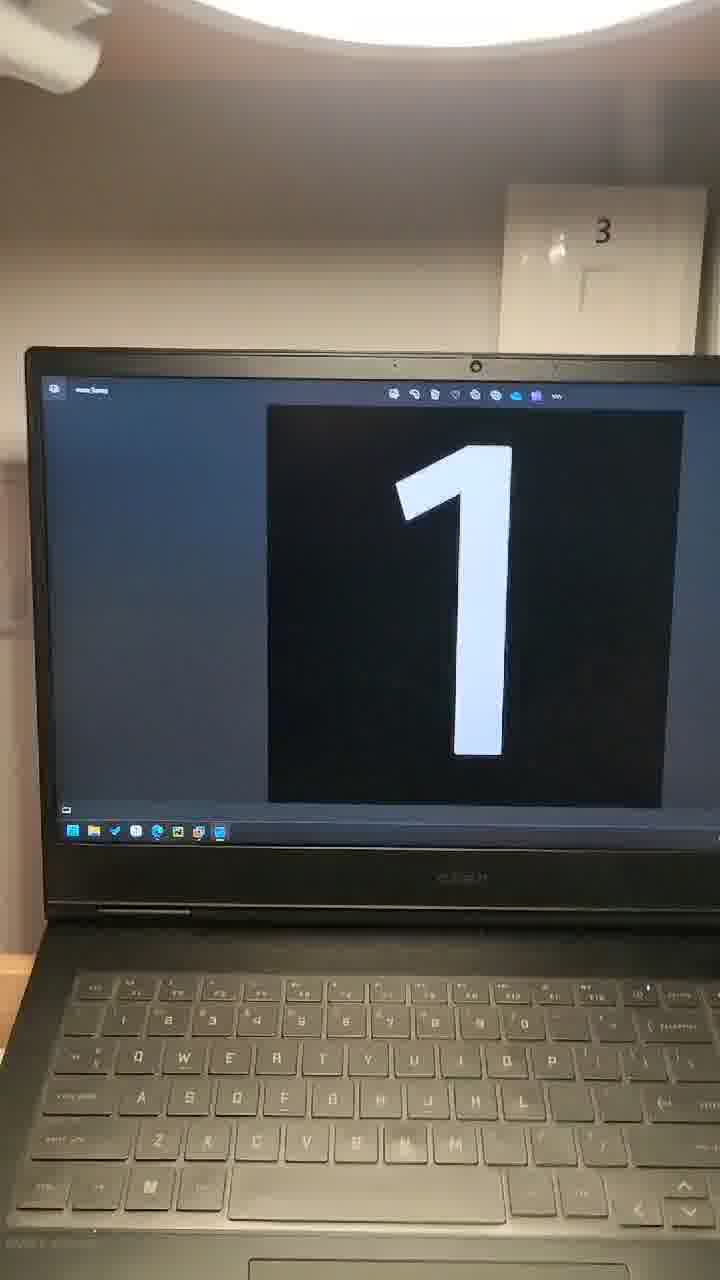one: (325, 433, 615, 828)
